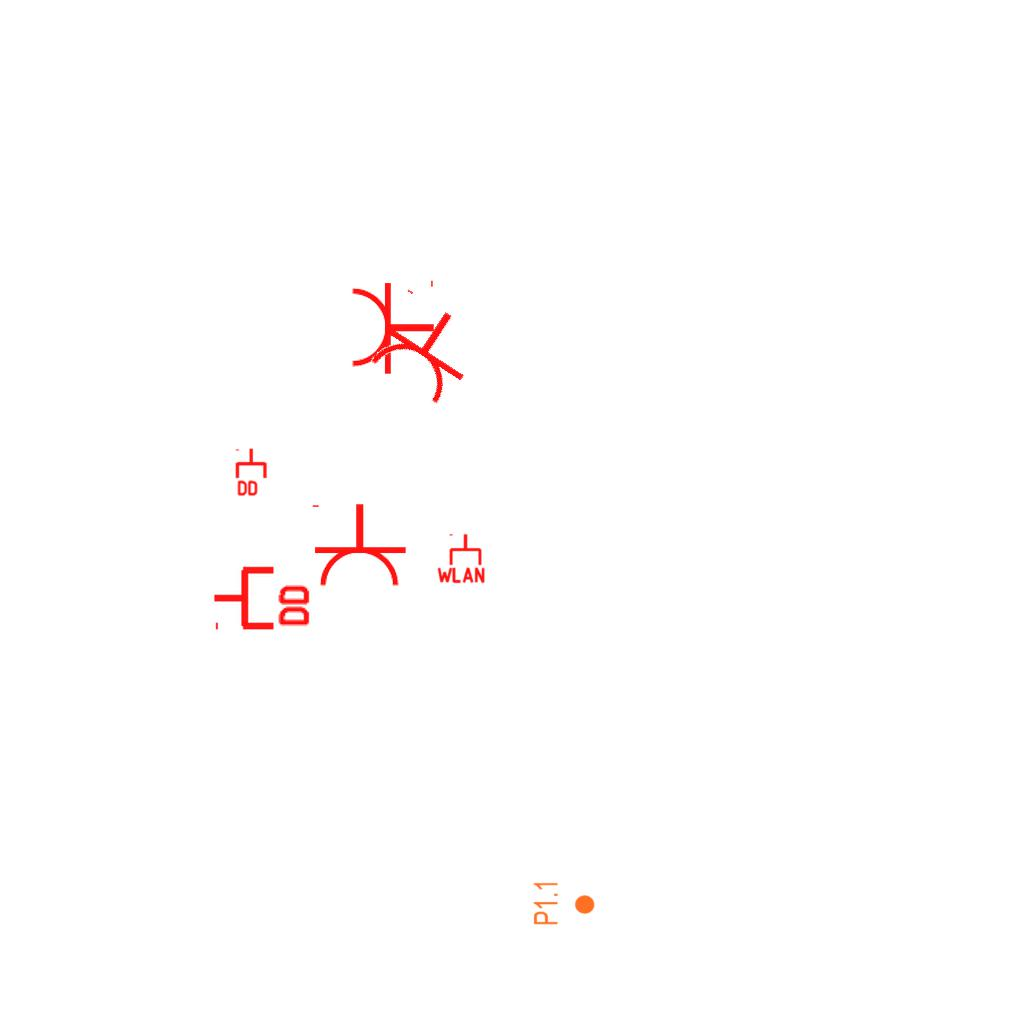Datenanschluss_zweifach: (211, 562, 314, 631), (235, 447, 269, 498)
Downlight_LED_Einbauleuchten_Flur: (532, 880, 596, 926)
Schukosteckdose_einfach: (358, 284, 491, 412), (349, 276, 436, 376), (308, 502, 408, 589)
WLAN: (435, 532, 487, 584)
